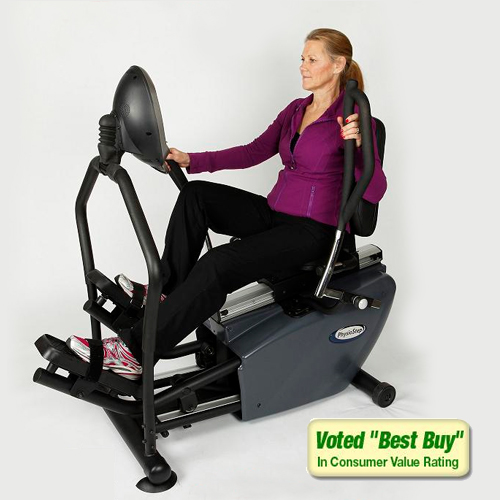gym_bike: (36, 72, 435, 488)
